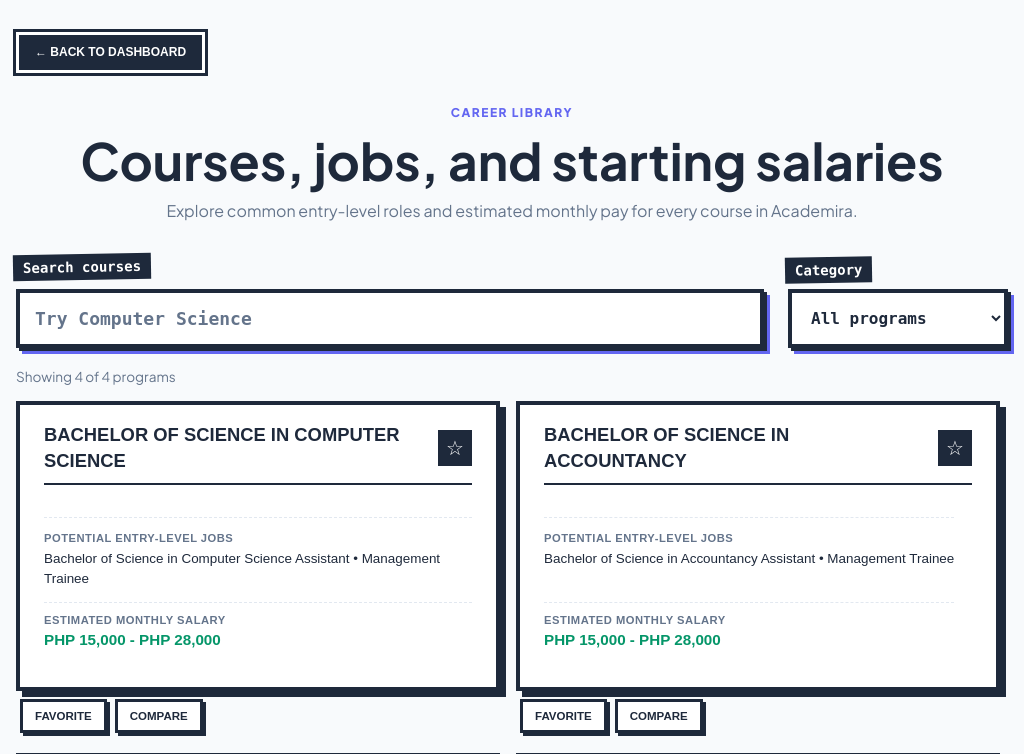
Test: CareerLibrary › shows an empty message for an unknown search
The image size is (1024, 754).
Type "Unknown Program XYZ" into the field with placeholder "Try Computer Science".
click(390, 318); type("Unknown Program XYZ")  # box [16,289,764,348]
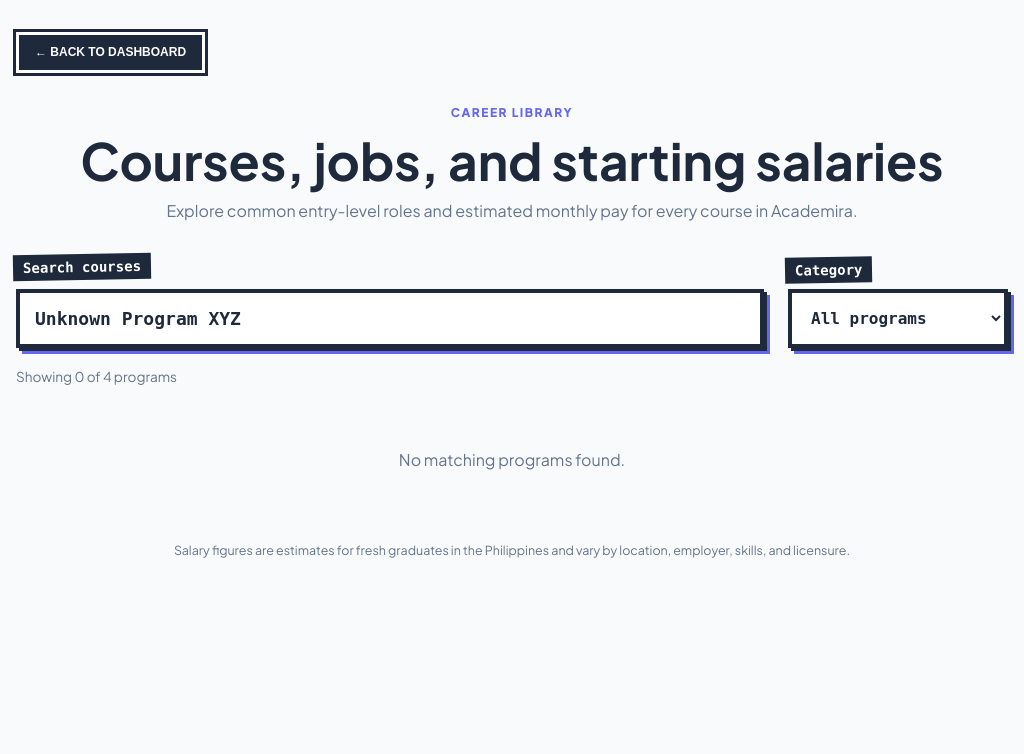
Now the text "No matching programs found." is shown, box [399,449,625,470]
Now the text "Showing 0 of 4 programs" is shown, box [16,368,177,385]
